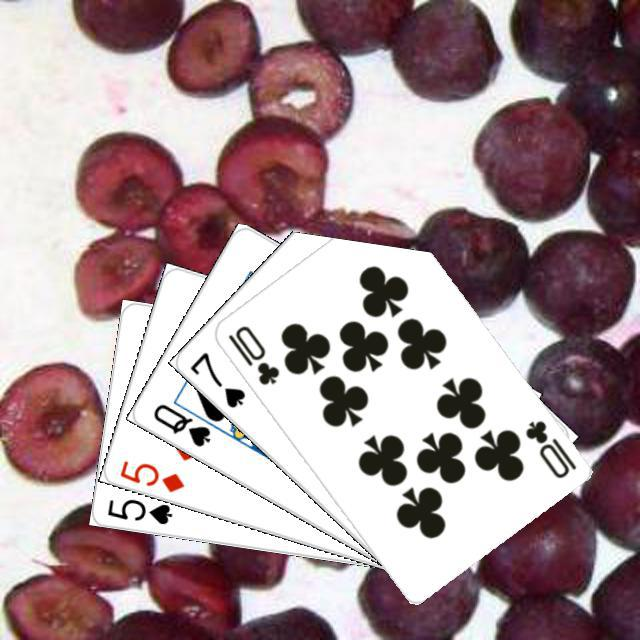10c: (223, 320, 281, 387), (520, 415, 579, 480)
5d: (115, 455, 186, 495)
5s: (102, 493, 174, 527)
7s: (185, 347, 247, 410)
Qs: (148, 398, 213, 449)
